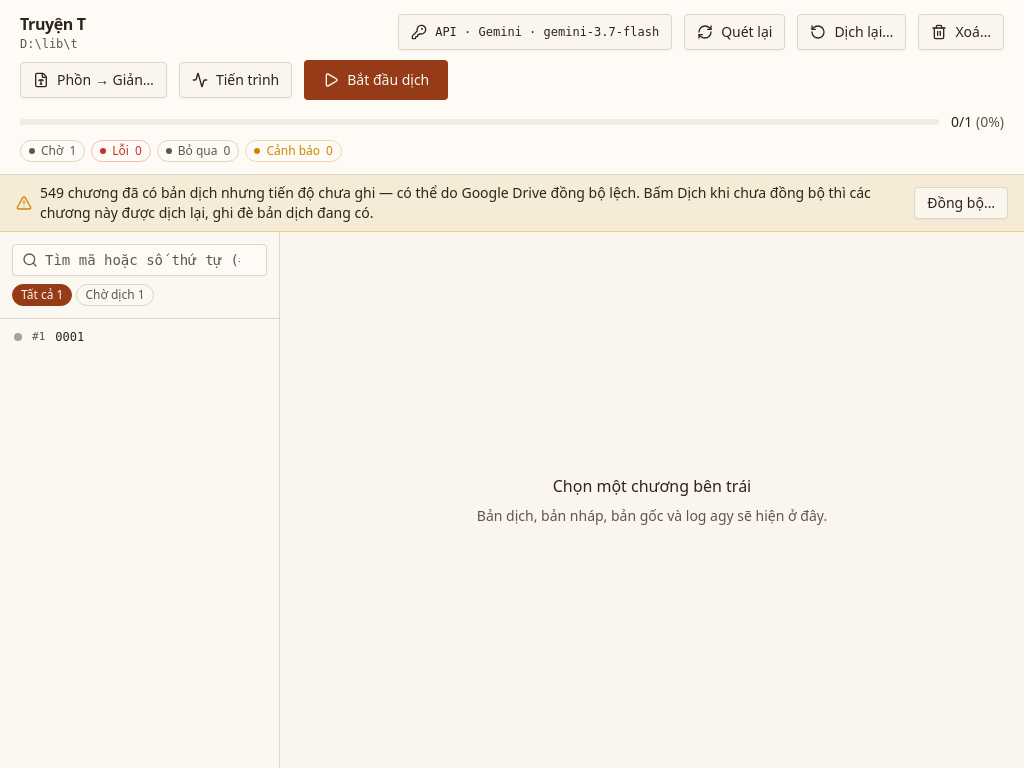
TranslatePage · banner tiến độ lệch sau sync Drive › snapshot có chương lệch thì hiện banner; bấm Đồng bộ… mở dialog xem trước
Expected: the text "549 chương đã có bản dịch nhưng tiến độ chưa ghi — có thể do Google Drive đồng bộ lệch. Bấm Dịch khi chưa đồng bộ thì cá" is shown, [40, 183, 871, 222]
Click the button "Đồng bộ…": (961, 203) [914, 187, 1008, 219]
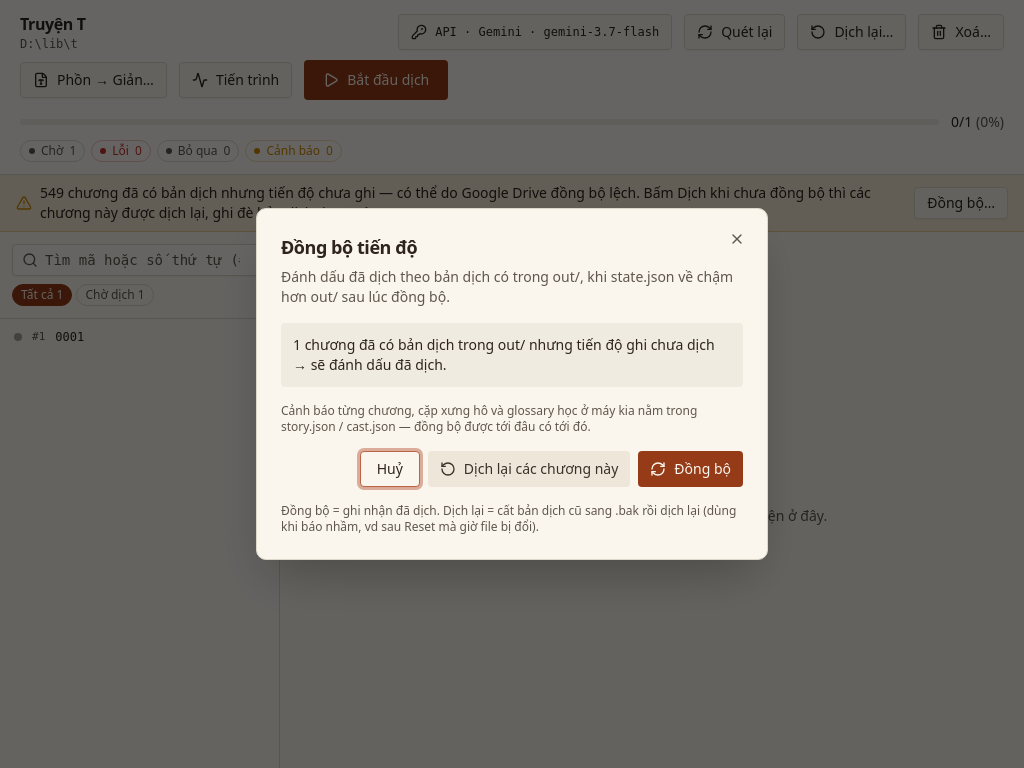
Expected: the dialog "Đồng bộ tiến độ" is shown, [256, 208, 768, 560]
